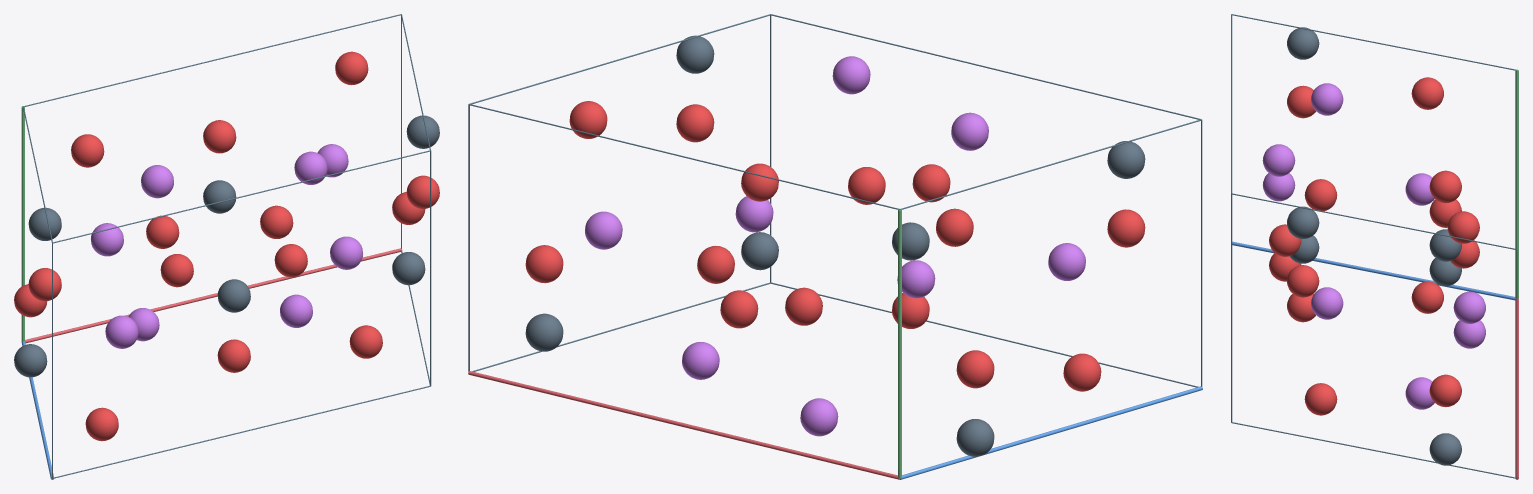
The model's file is chat-zabuyelite.glb.
3 renders of one model, left to right at view 1: azimuth 30°, elevation 25°; view 2: azimuth 150°, elevation 25°; view 3: azimuth 270°, elevation 25°, orthographic. The views are drawn at different scales.
Parts seen in each view (by area): view 1: O2 · O · 1 (×8), Li · Li · 1 (×8), Ô mạng và các trục a, b, c, C · C · 1 (×6), O1 · O · 1 (×6); view 2: Ô mạng và các trục a, b, c, O2 · O · 1 (×8), Li · Li · 1 (×8), C · C · 1 (×6), O1 · O · 1 (×6); view 3: Li · Li · 1 (×8), O2 · O · 1 (×8), Ô mạng và các trục a, b, c, O1 · O · 1 (×6), C · C · 1 (×6).
Boxes of the visible parts, <box> form: O2 · O · 1 (×8): <box>71,51,382,441</box>; Li · Li · 1 (×8): <box>91,144,362,348</box>; Ô mạng và các trục a, b, c: <box>21,14,431,479</box>; C · C · 1 (×6): <box>14,115,439,377</box>; O1 · O · 1 (×6): <box>14,120,439,372</box>; Ô mạng và các trục a, b, c: <box>468,14,1202,479</box>; O2 · O · 1 (×8): <box>569,101,1101,391</box>; Li · Li · 1 (×8): <box>585,56,1085,436</box>; C · C · 1 (×6): <box>525,35,1145,456</box>; O1 · O · 1 (×6): <box>525,104,1145,388</box>; Li · Li · 1 (×8): <box>1262,83,1485,409</box>; O2 · O · 1 (×8): <box>1269,77,1479,415</box>; Ô mạng và các trục a, b, c: <box>1231,14,1518,479</box>; O1 · O · 1 (×6): <box>1287,85,1461,407</box>; C · C · 1 (×6): <box>1287,27,1461,465</box>.
Size of the model in its own units: 11 by 5.1 by 5.67.
